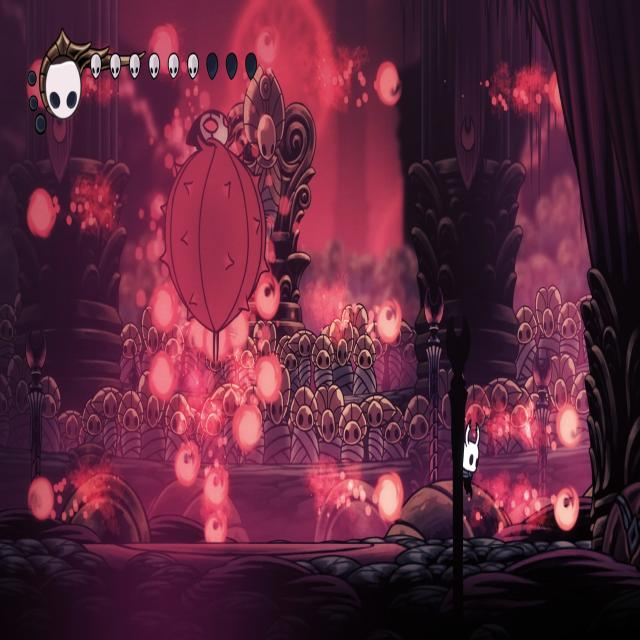Player: (457, 412, 486, 502)
Pufferfish: (153, 103, 275, 372)
Tiny Fireballs: (27, 189, 56, 239), (148, 353, 176, 403), (234, 404, 263, 452), (376, 471, 403, 520), (253, 272, 280, 319), (150, 286, 176, 334), (255, 357, 280, 406), (28, 478, 55, 522), (174, 443, 201, 486), (376, 61, 401, 106), (378, 300, 402, 344), (554, 486, 578, 530), (204, 466, 228, 507), (256, 25, 278, 68), (558, 404, 580, 447), (205, 510, 228, 542)
